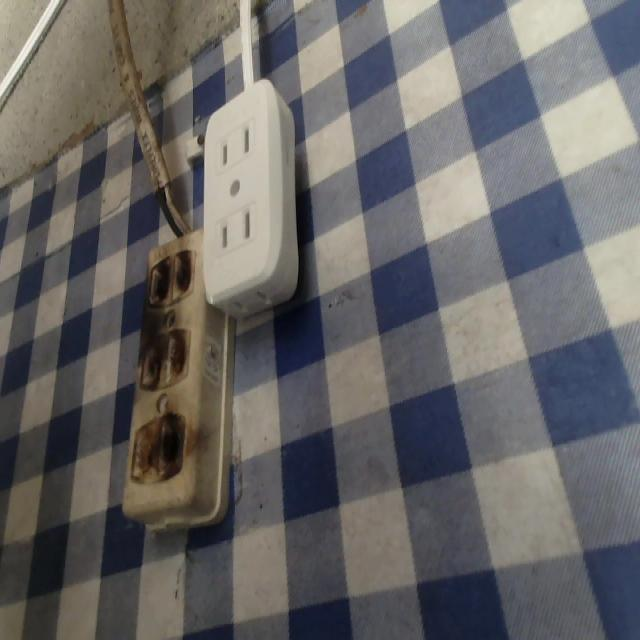-: (122, 407, 190, 489), (133, 325, 204, 395), (141, 247, 199, 316)
